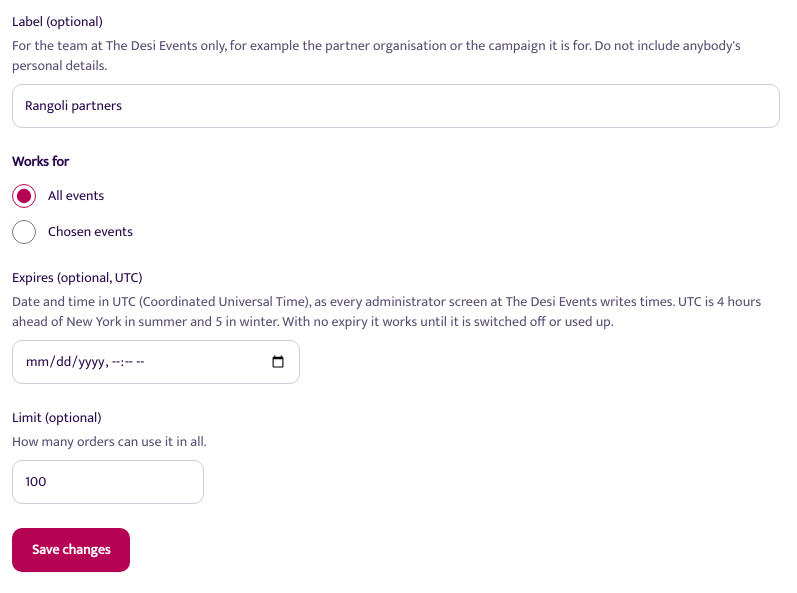
changing a referral code › sends only what changed, with when it was read, and says it saved
Replace the text in the field labelled "Limit (optional)" with "250". click: (108, 482)
box: [12, 460, 204, 504]
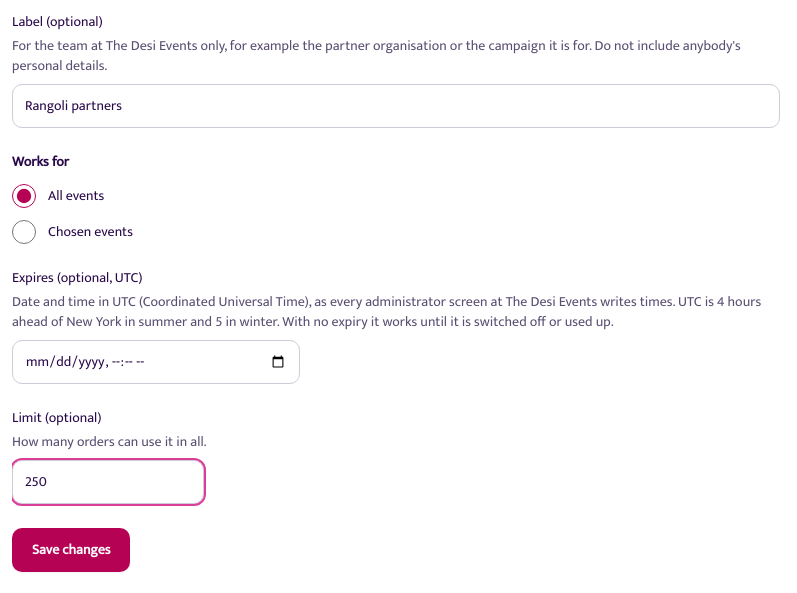
Click the button "Save changes". click: (71, 550)
box: [12, 528, 130, 572]
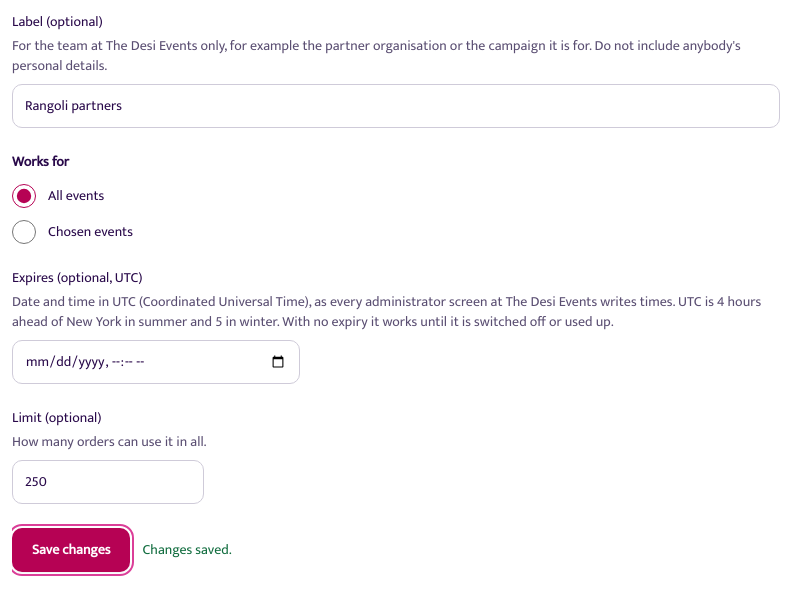
Result: the text "Changes saved." is shown at [142, 540, 232, 560]
